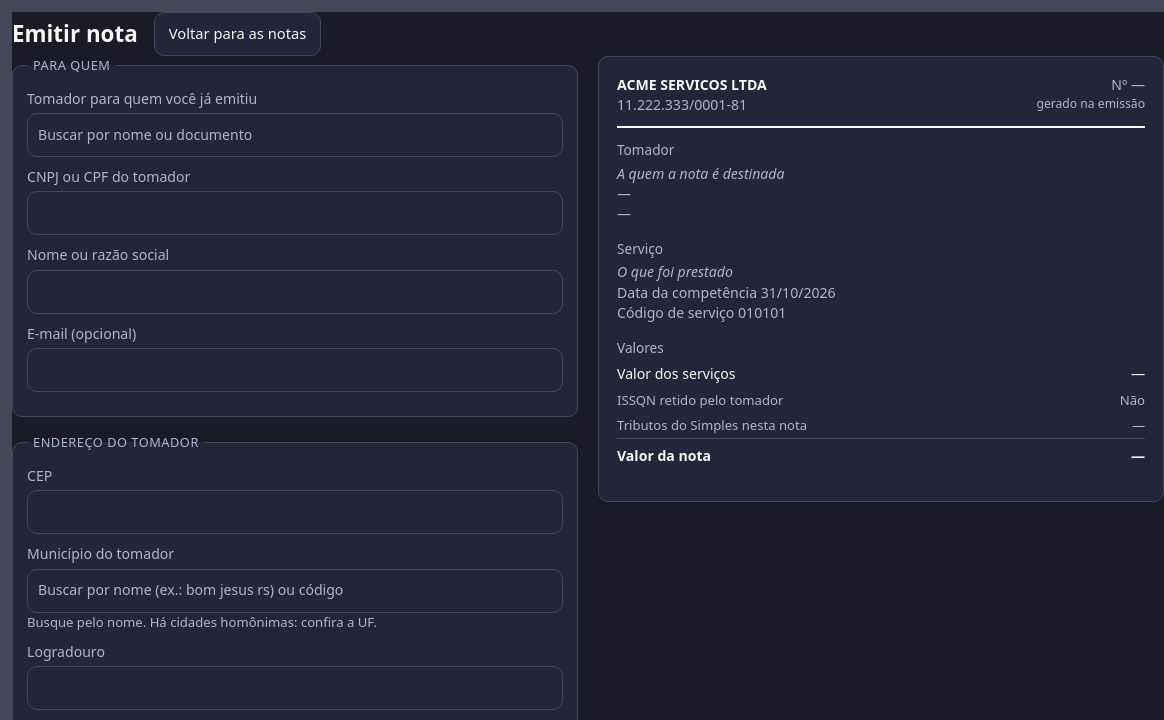
it: ⚠⚠ ENCONTRA, NUNCA ESCOLHE › toda linha mostra o NOME e o DOCUMENTO — é o documento que desempata homônimo
The image size is (1164, 720).
Focus the dropdown with id "emitir-tomador-memoria" at (295, 135), box [27,113,563,157]
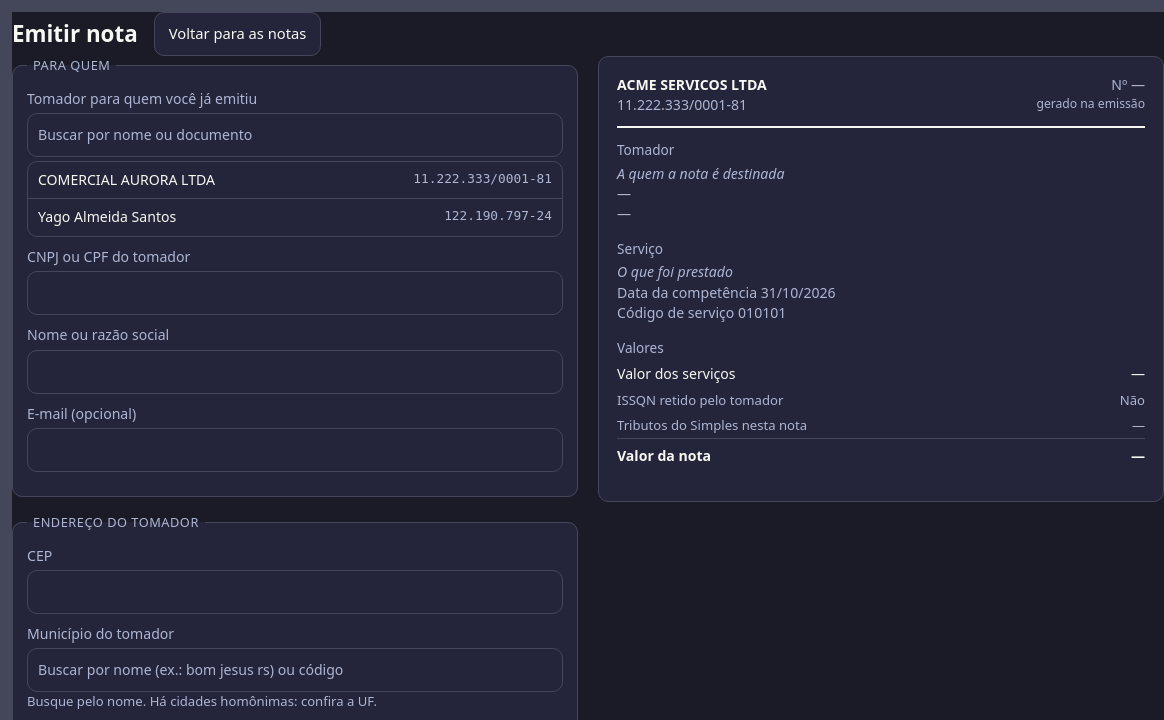
Expected: the option "COMERCIAL AURORA LTDA 11.222.333/0001-81" is shown, [28,162,562,199]
